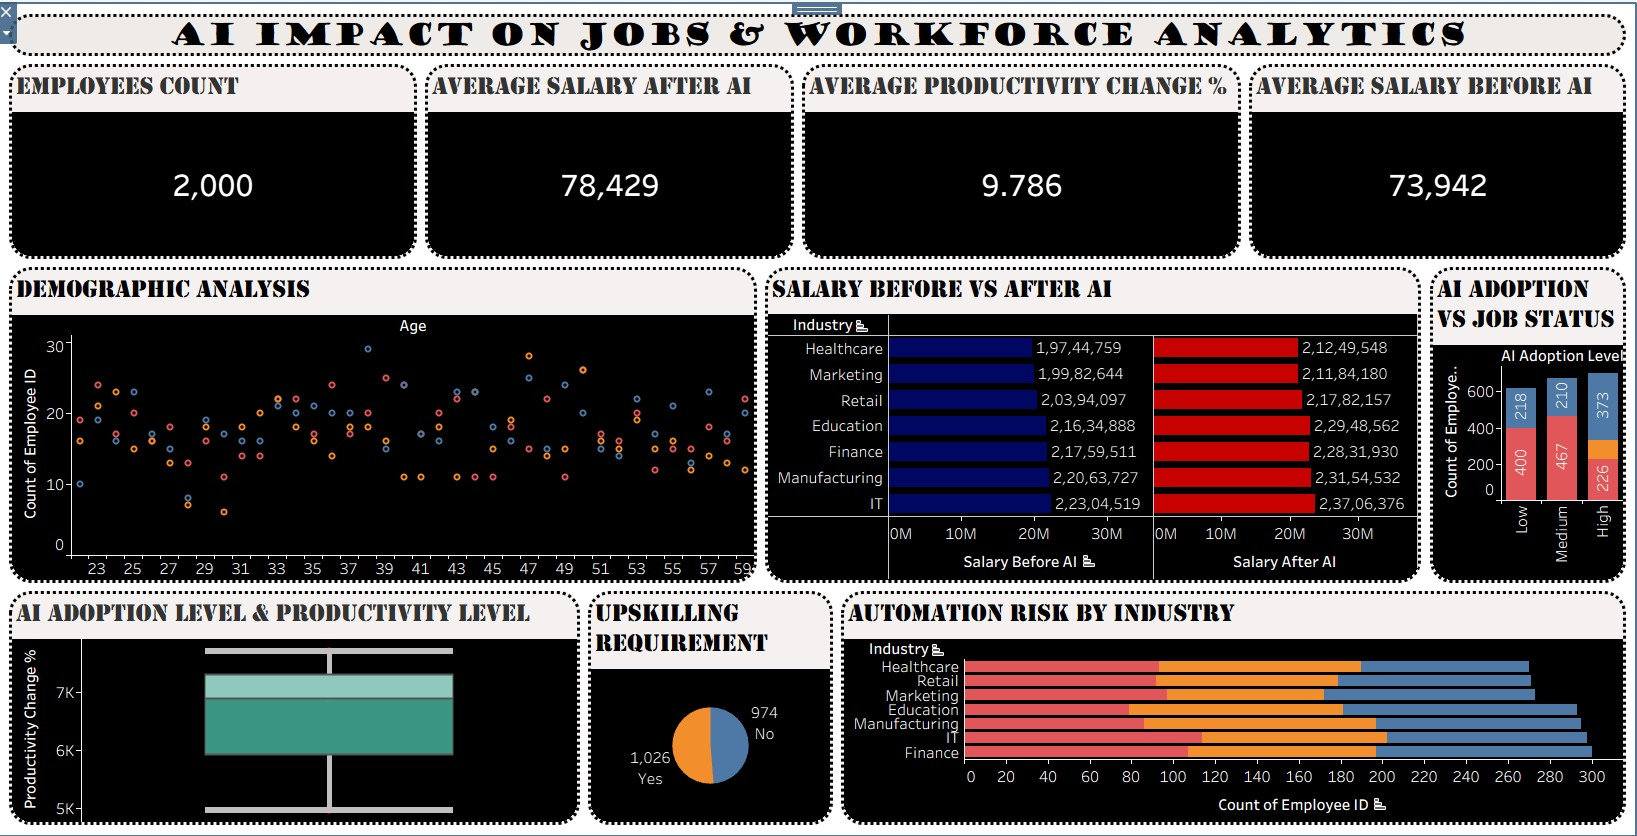

The page's visual inventory and layout, read from the dashboard file:
{"tool":"tableau","page":{"name":"Dashboard 1","canvas":[1000,1000],"units":"permille","ordinal":0},"visuals":[{"type":"title","box":[4.9,9.6,990.2,59.9]},{"type":"worksheet","title":"Sheet 1","mark":"Automatic","box":[4.9,69.5,253.5,242.8]},{"type":"worksheet","title":"Sheet 3","mark":"Automatic","box":[258.3,69.5,229.7,242.8]},{"type":"worksheet","title":"Sheet 4","mark":"Automatic","box":[488.1,69.5,272.4,242.8]},{"type":"worksheet","title":"Sheet 2","mark":"Automatic","box":[760.5,69.5,234.7,242.8]},{"type":"worksheet","title":"Sheet 10","mark":"Shape","rows":["Employee_ID"],"cols":["Age"],"box":[4.9,312.3,460.9,388.6]},{"type":"worksheet","title":"Sheet 7","mark":"Automatic","rows":["Industry"],"cols":["Salary_Before_AI","Salary_After_AI"],"box":[465.8,312.3,404.9,388.6]},{"type":"worksheet","title":"Sheet 5","mark":"Automatic","rows":["Employee_ID"],"cols":["AI_Adoption_Level"],"box":[870.7,312.3,124.4,388.6]},{"type":"worksheet","title":"Sheet 8","mark":"Circle","rows":["Productivity_Change_%"],"box":[4.9,700.9,352.8,289.5]},{"type":"worksheet","title":"Sheet 9","mark":"Pie","box":[357.7,700.9,154.1,289.5]},{"type":"worksheet","title":"Sheet 6","mark":"Automatic","rows":["Industry"],"cols":["Employee_ID"],"box":[511.8,700.9,483.3,289.5]}]}

Visuals, with their boxes on the dashboard's canvas, which has no fixed pixel size, in thousandths of its width and height (x1, y1, x2, y2). These are canvas units, not pixel positions in the 1637x836 screenshot, which may show the page scaled, cropped or inside an application window:
title: (x1=5, y1=10, x2=995, y2=70)
"Sheet 1" worksheet: (x1=5, y1=70, x2=258, y2=312)
"Sheet 3" worksheet: (x1=258, y1=70, x2=488, y2=312)
"Sheet 4" worksheet: (x1=488, y1=70, x2=760, y2=312)
"Sheet 2" worksheet: (x1=760, y1=70, x2=995, y2=312)
"Sheet 10" worksheet (Shape marks): (x1=5, y1=312, x2=466, y2=701)
"Sheet 7" worksheet: (x1=466, y1=312, x2=871, y2=701)
"Sheet 5" worksheet: (x1=871, y1=312, x2=995, y2=701)
"Sheet 8" worksheet (Circle marks): (x1=5, y1=701, x2=358, y2=990)
"Sheet 9" worksheet (Pie marks): (x1=358, y1=701, x2=512, y2=990)
"Sheet 6" worksheet: (x1=512, y1=701, x2=995, y2=990)
